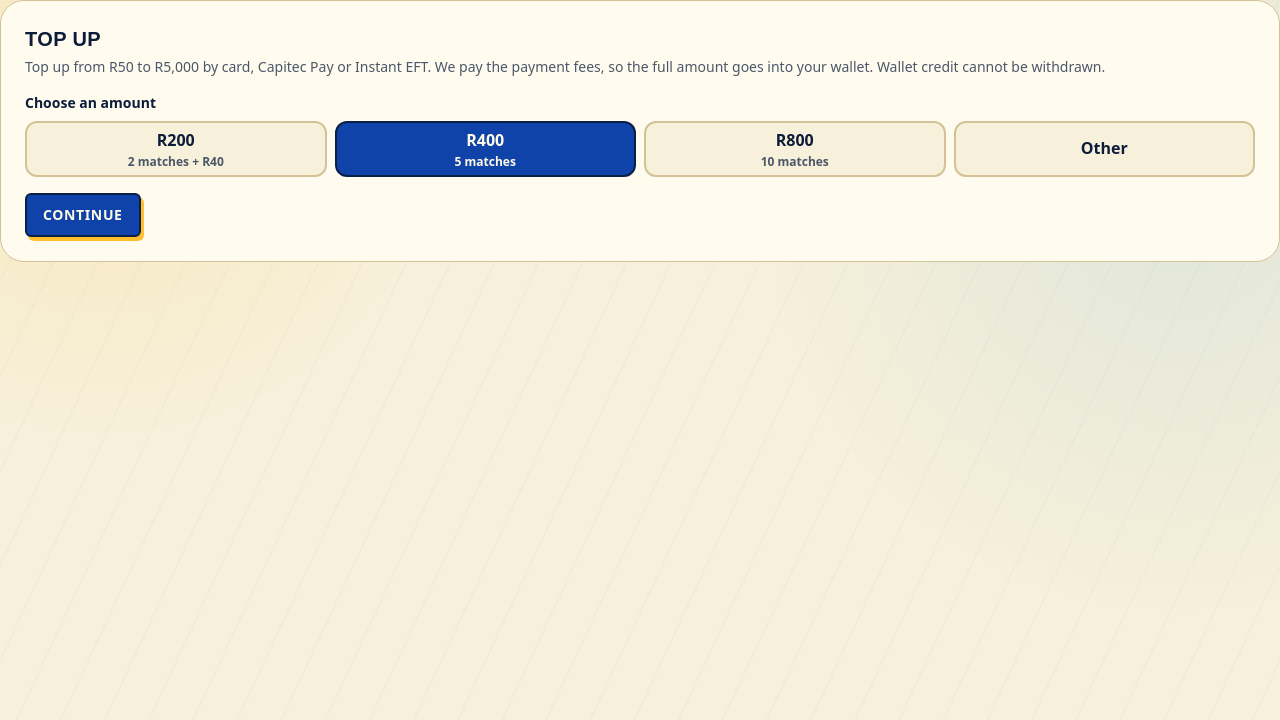
Test case: TopUpForm › rejects a custom amount of abc
Click the button "Other" at (1104, 149), box [954,121,1255,177]
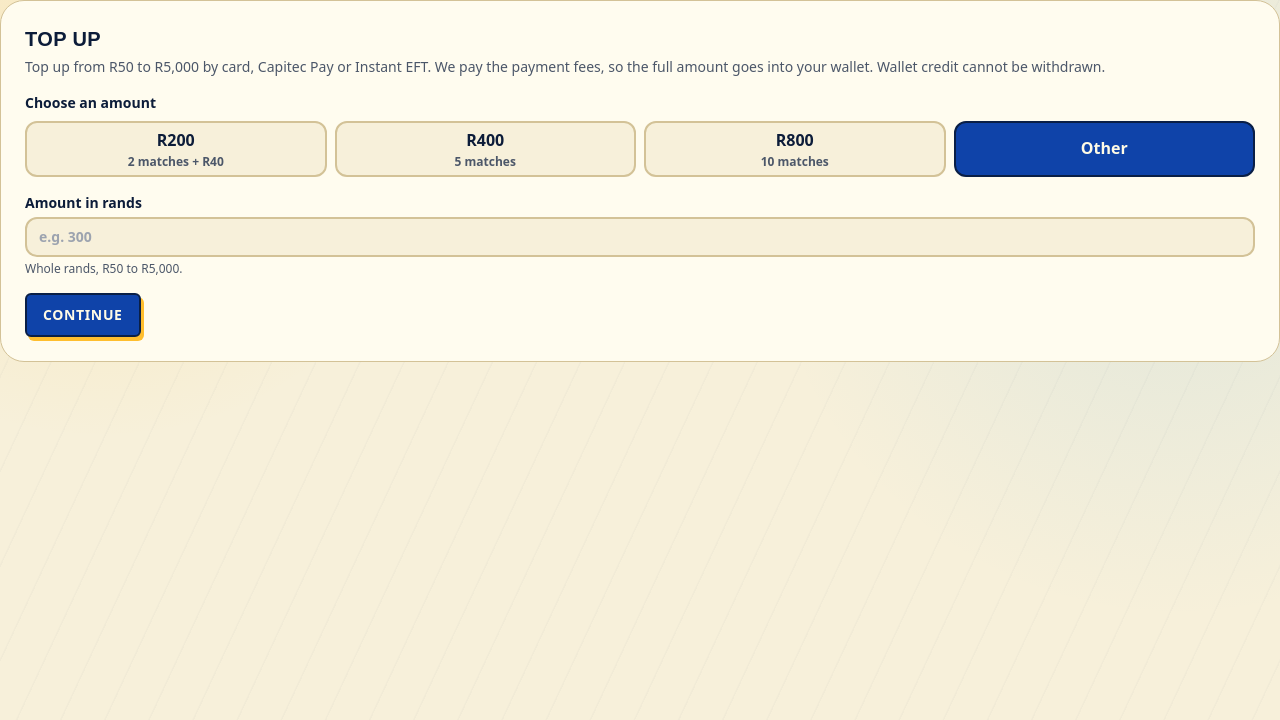
Type "abc" into the field labelled "Amount in rands Whole rands, R50 to R5,000." at (640, 237), box [25,217,1255,257]
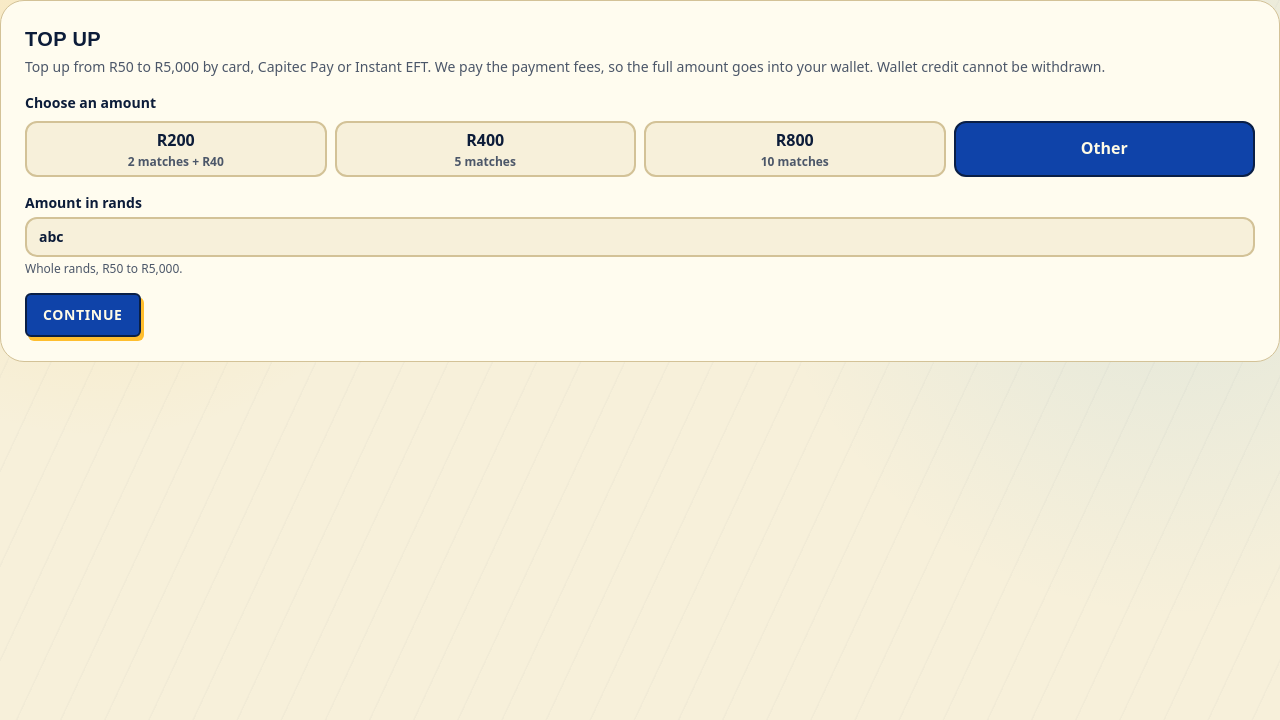
Click the button "Continue" at (83, 315), box [25,293,141,337]
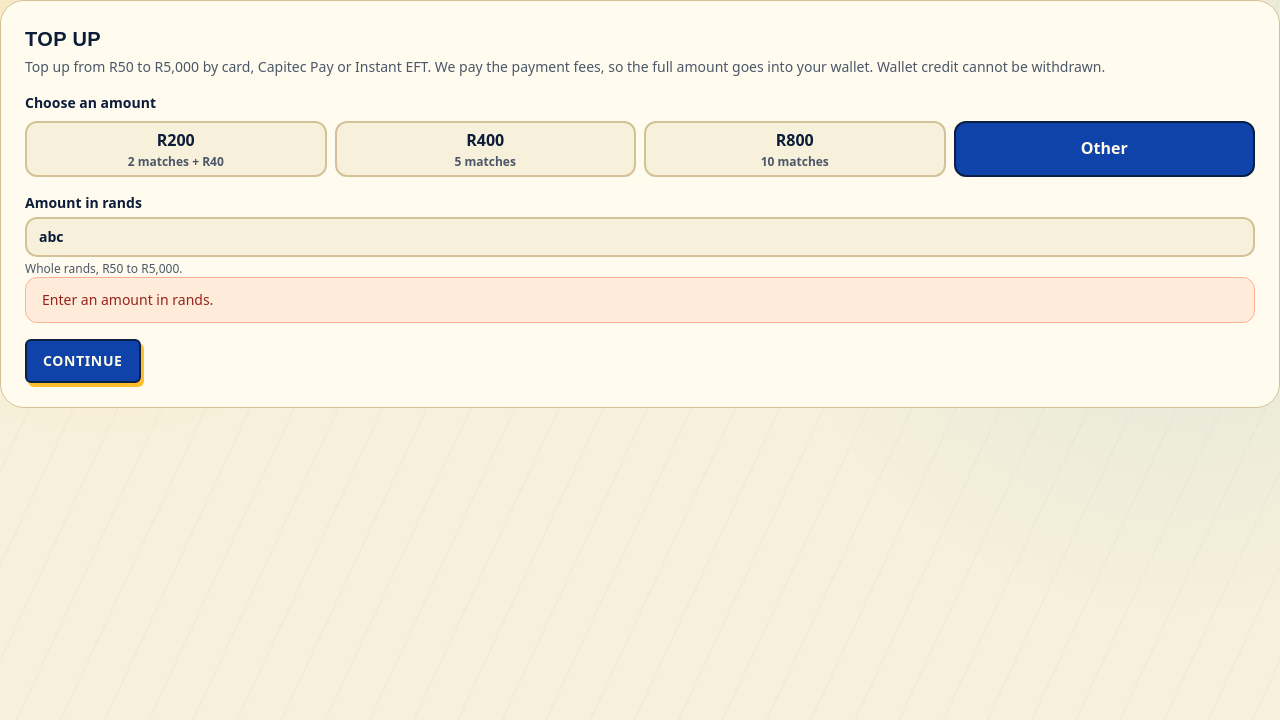
Expected: the message reads "Enter an amount in rands.", [42,290,213,309]
